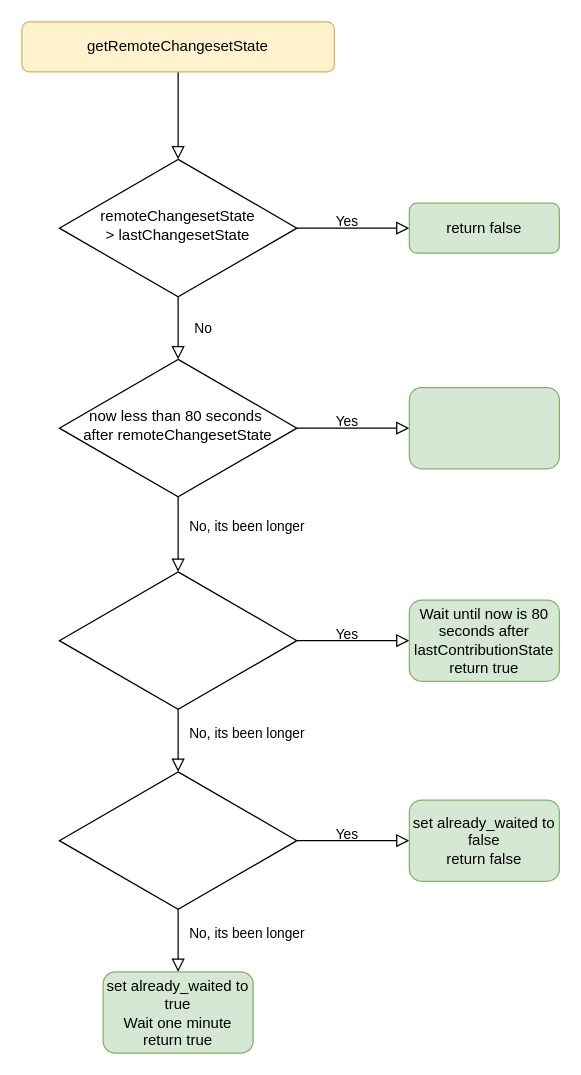
This 581x1075 diagram has some shape labels left out. Here are the shapes that lost their labels. From the top down, the box of each, then its label:
(408, 386, 559, 469): Wait until now is 80 seconds after lastChangesetState return true
(58, 571, 297, 709): now less than 80 seconds after remoteContributionState
(58, 771, 297, 909): first time here since last refresh, or already_waited
